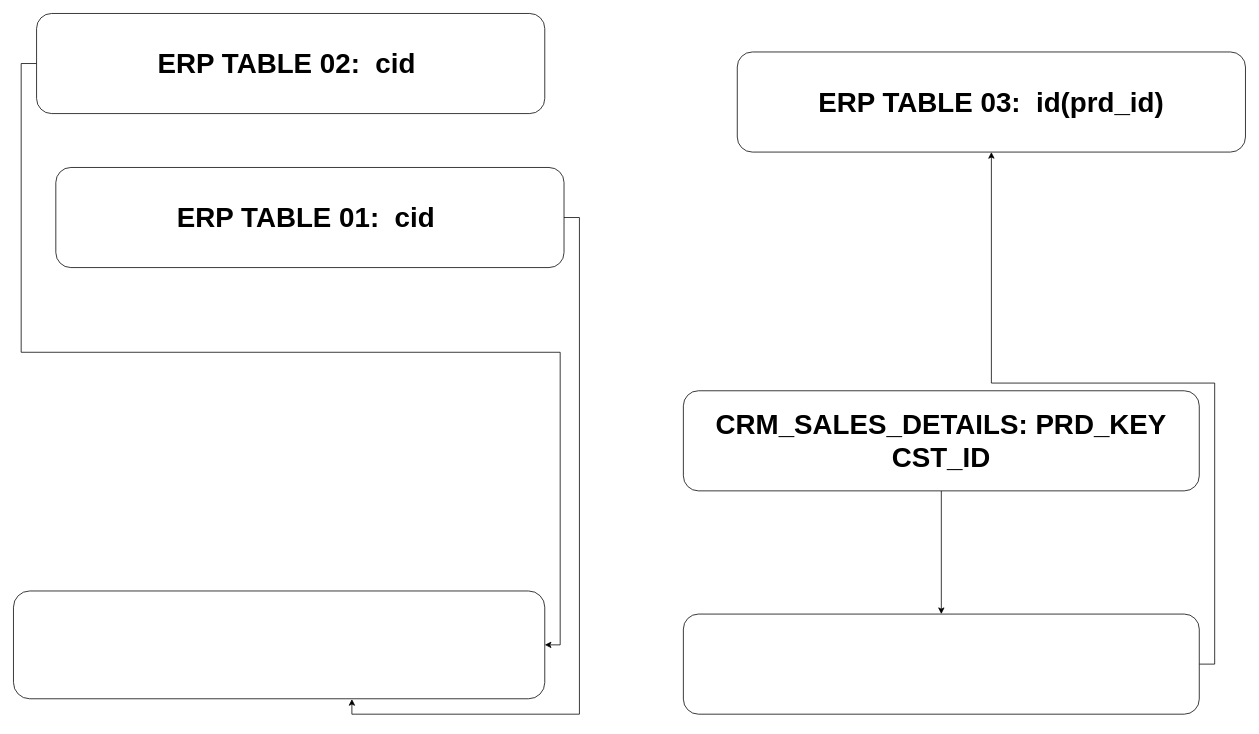
Some shapes in this 1259 by 734 pixel diagram are drawn without their labels. The centre of each missing label's shape, as x and y in pixels:
"CRM_CUST_INFO :CST_ID ,cust_key" belongs at [279,644].
"crm_prd_info: prd_key" belongs at [941,663].
